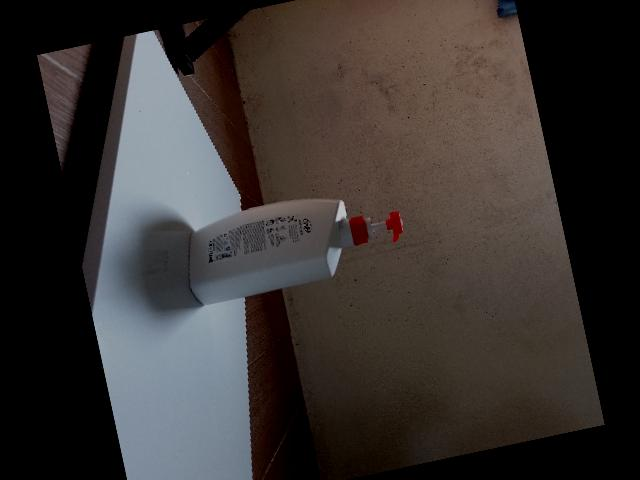life-buoy: (187, 199, 402, 306)
